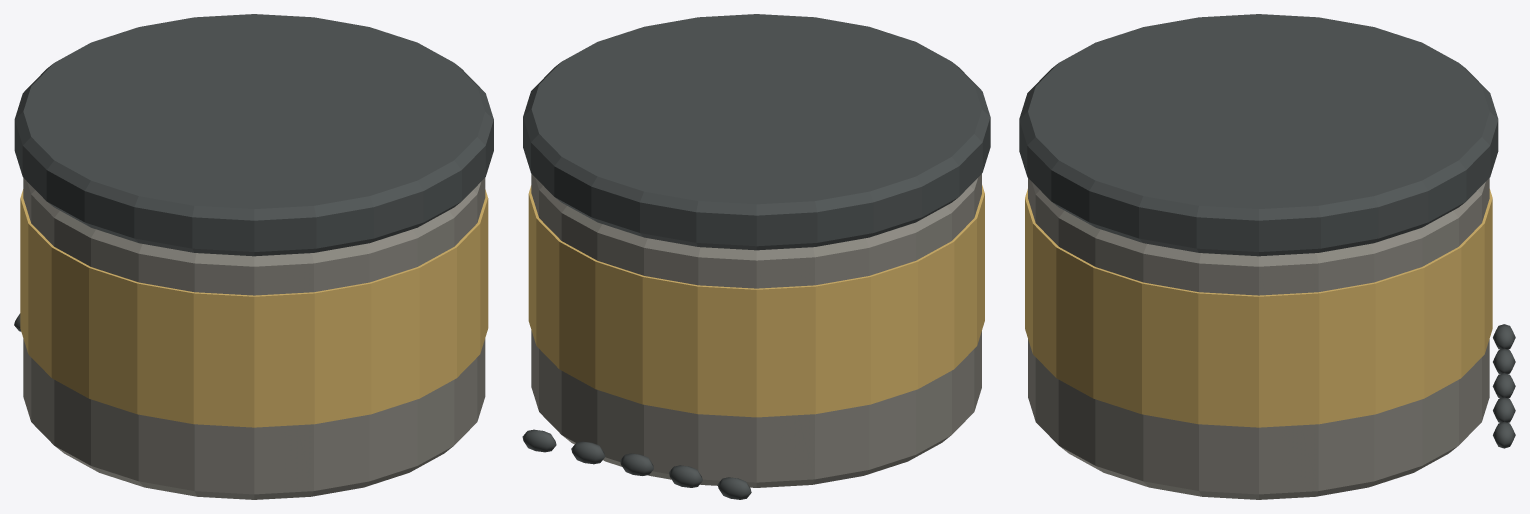
File: item_gunpowder.glb
The picture shows the model from 3 angles, left to right: view 1: azimuth 30°, elevation 25°; view 2: azimuth 150°, elevation 25°; view 3: azimuth 270°, elevation 25°; orthographic projection. The views are drawn at different scales.
Parts seen in each view (by area): view 1: item_gunpowder; view 2: item_gunpowder; view 3: item_gunpowder.
Part boxes in pixels (box(x1,y1,x2,y2)): item_gunpowder: box(14, 14, 493, 499); item_gunpowder: box(522, 14, 990, 499); item_gunpowder: box(1019, 14, 1515, 499).
Bounding box in the file's own units: 0.166 × 0.113 × 0.172.
